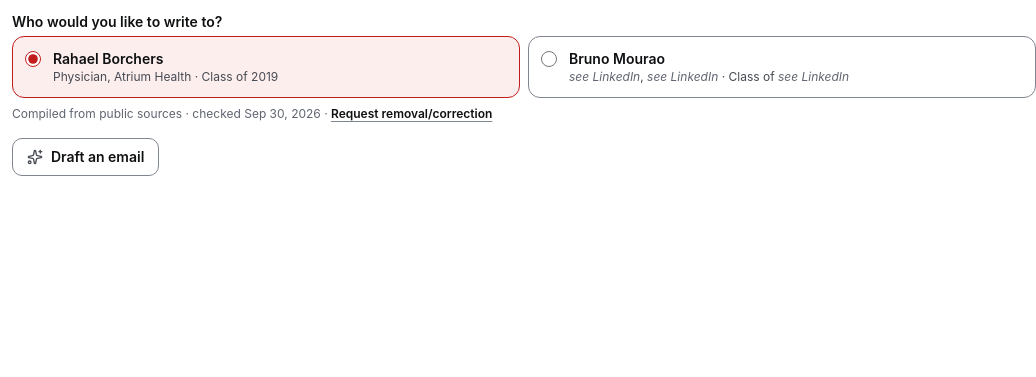
AiColdEmailPanel › renders the timeout result kind with its message
Click the button "Draft an email" at x=86, y=157, box [12,138,159,176]
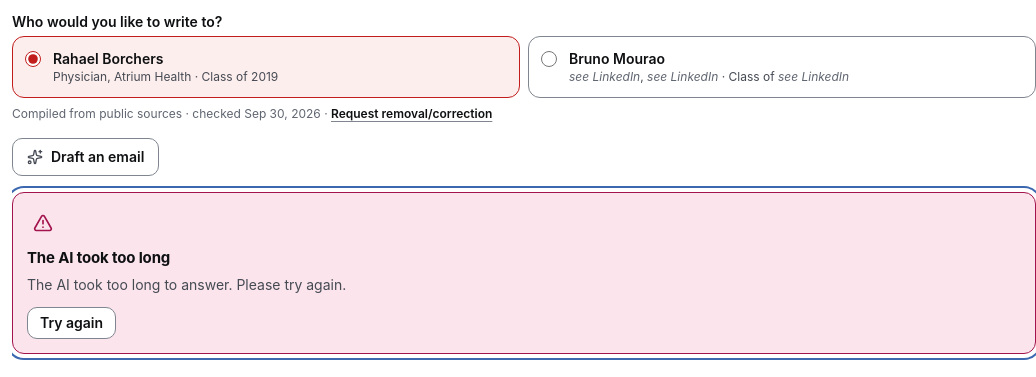
Check: the element with test id "ai-email-failure" shows "The AI took too long to answer. Please try again.", box [27,276,346,293]
